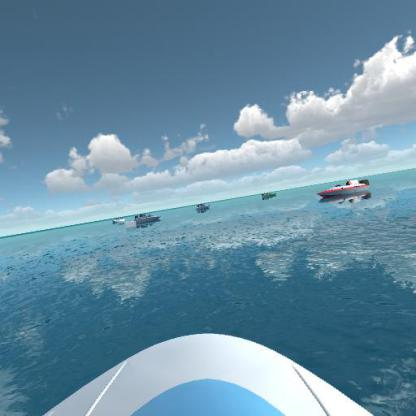usv0: (260, 188, 277, 202)
usv1: (132, 212, 162, 226), (107, 213, 126, 228), (194, 202, 213, 214)
usv3: (315, 175, 376, 203)
